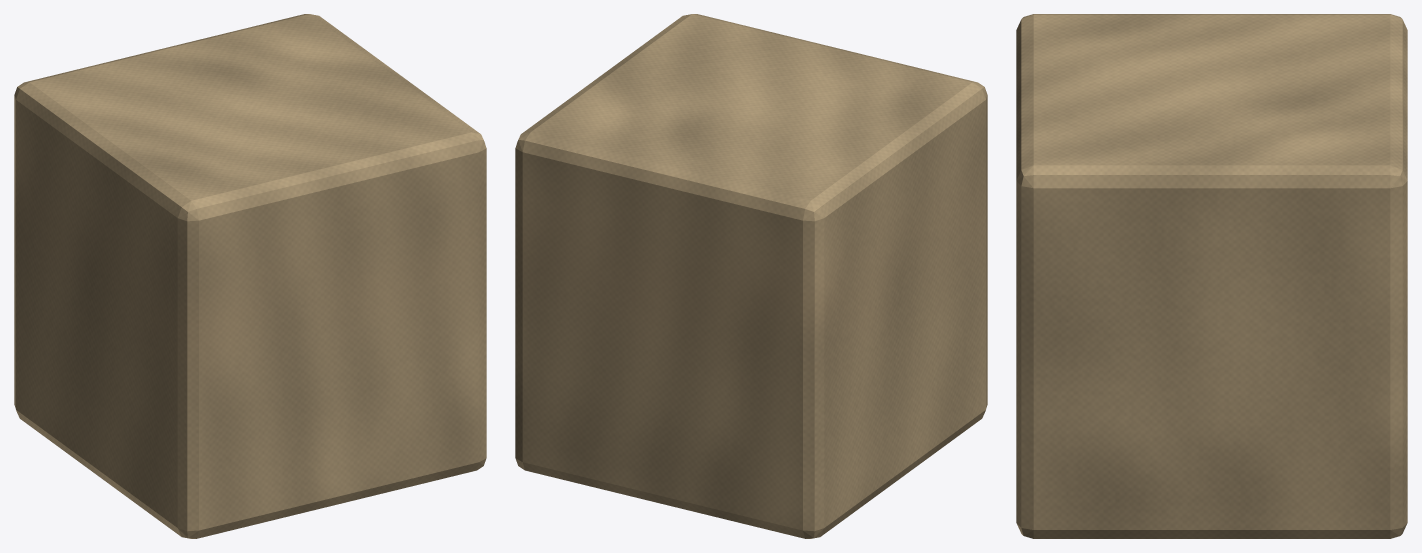
The model's file is RightLowerArm.fbx.
3 views of the same model, side by side, from view 1: azimuth 30°, elevation 25°; view 2: azimuth 150°, elevation 25°; view 3: azimuth 270°, elevation 25° (orthographic). The views are drawn at different scales.
Parts seen in each view (by area): view 1: RightLowerArm; view 2: RightLowerArm; view 3: RightLowerArm.
Part boxes in pixels (bbox=[...]): RightLowerArm: bbox=[14, 14, 486, 538]; RightLowerArm: bbox=[515, 14, 987, 538]; RightLowerArm: bbox=[1016, 14, 1407, 538].
Bounding box in the file's own units: 1 × 1.05 × 1.
Materials: 1 (1 with a texture image).
